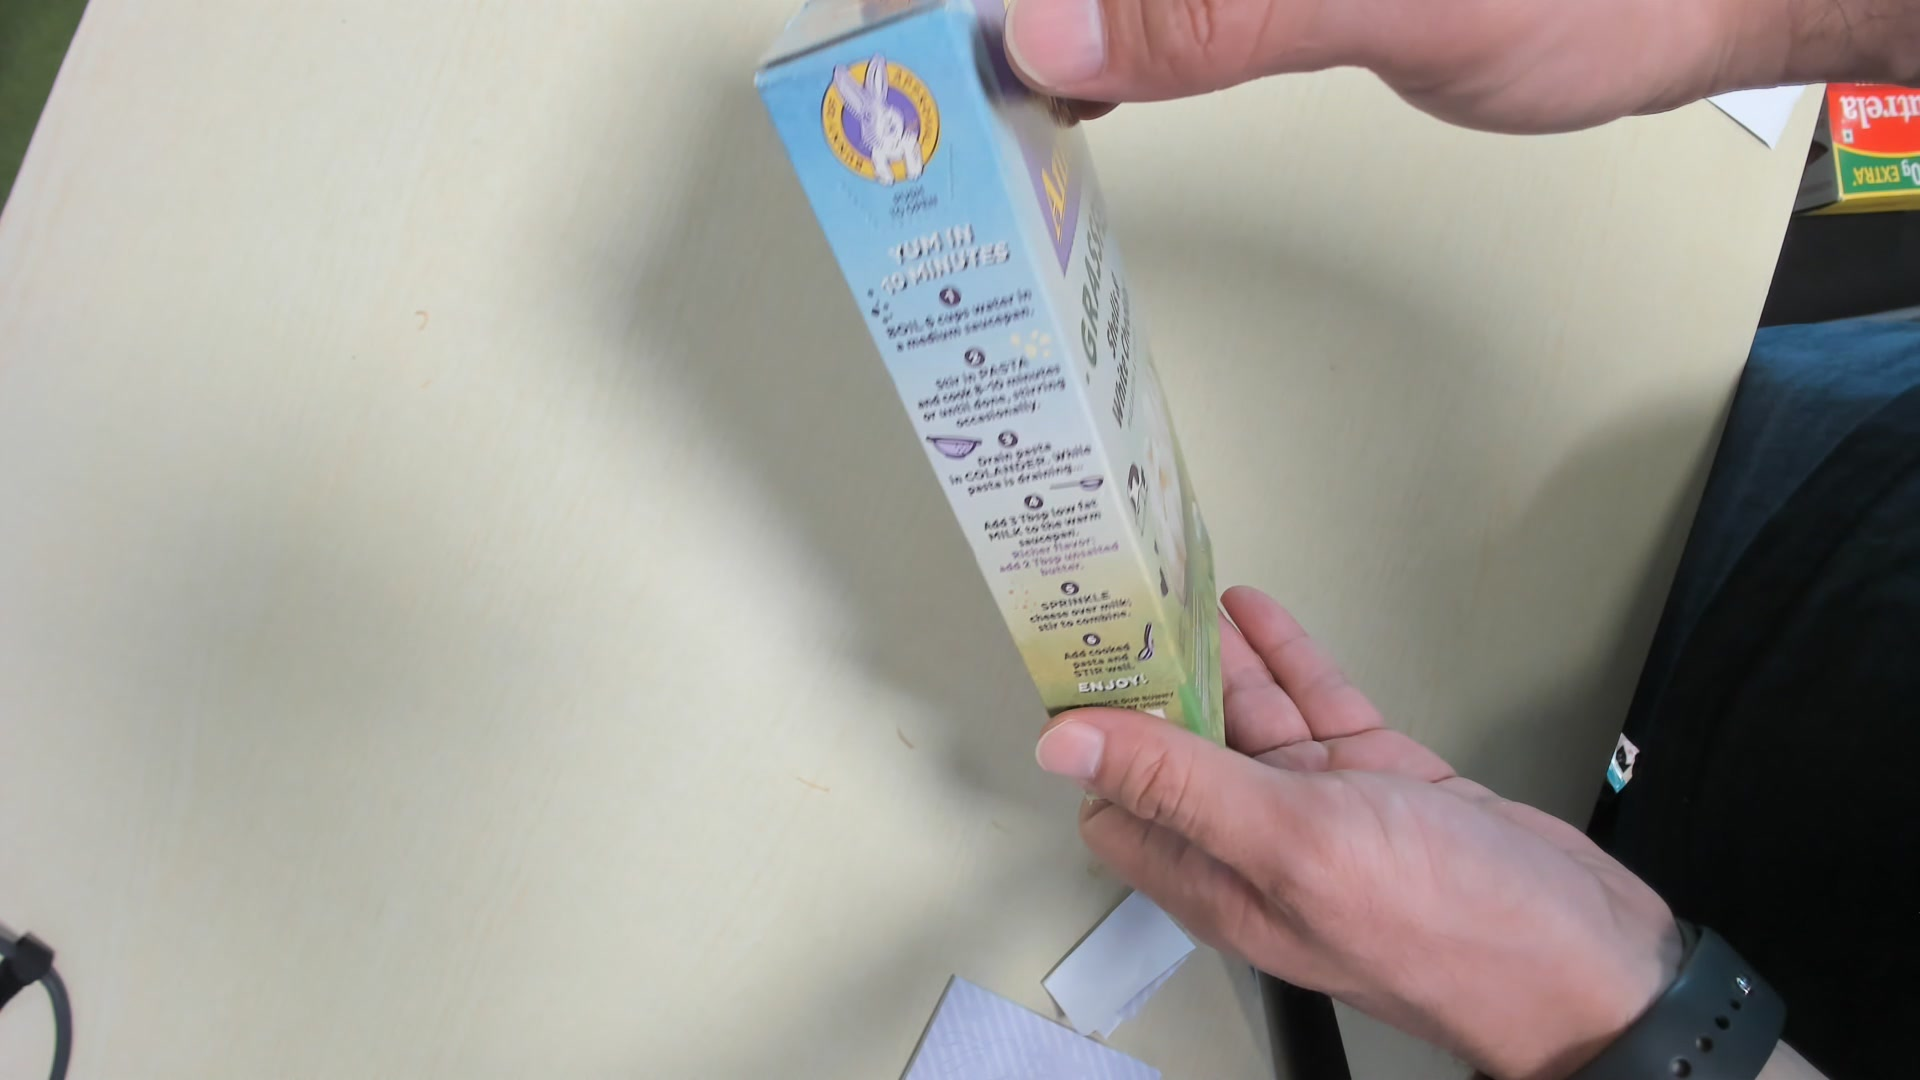InstantMeals_100_199g_NonHalal_NonHealthy: (760, 1, 1228, 750)
